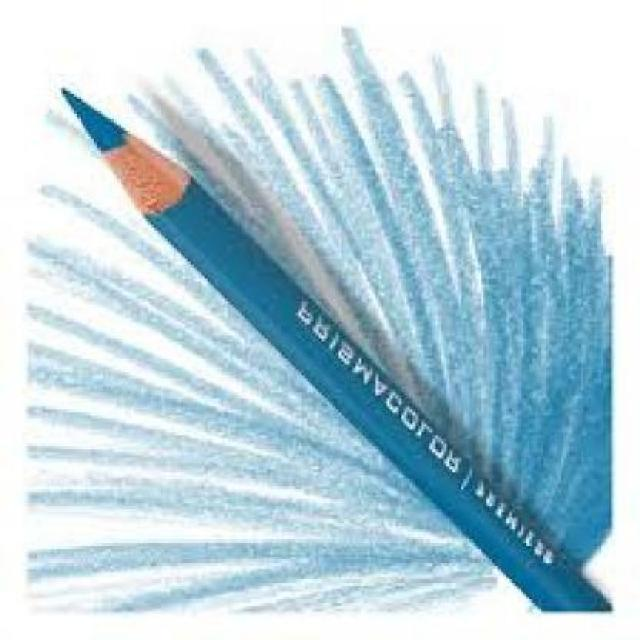pencil: (42, 62, 216, 262)
